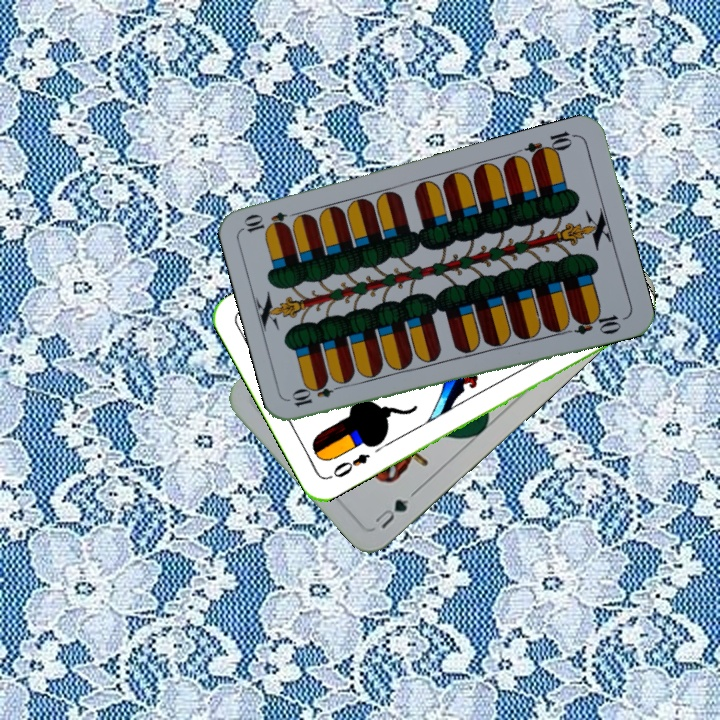E10: (521, 127, 579, 163), (288, 379, 347, 410)
EO: (325, 449, 373, 482)
GU: (371, 494, 411, 532)
